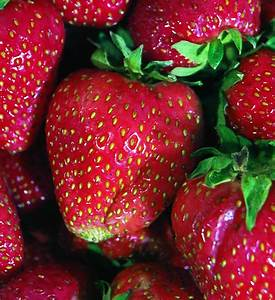Fresa: (43, 57, 205, 252), (168, 144, 275, 300), (2, 1, 69, 159)
